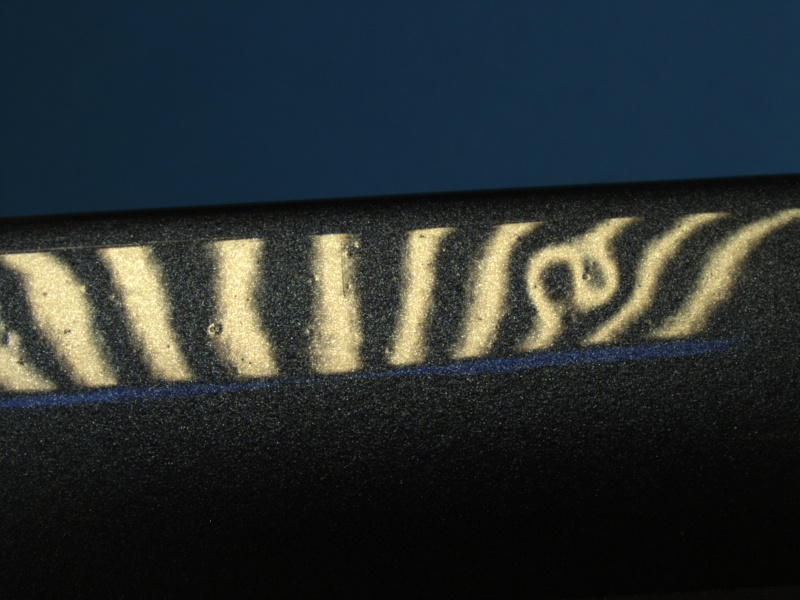bad: (521, 232, 633, 326), (198, 317, 229, 345)
